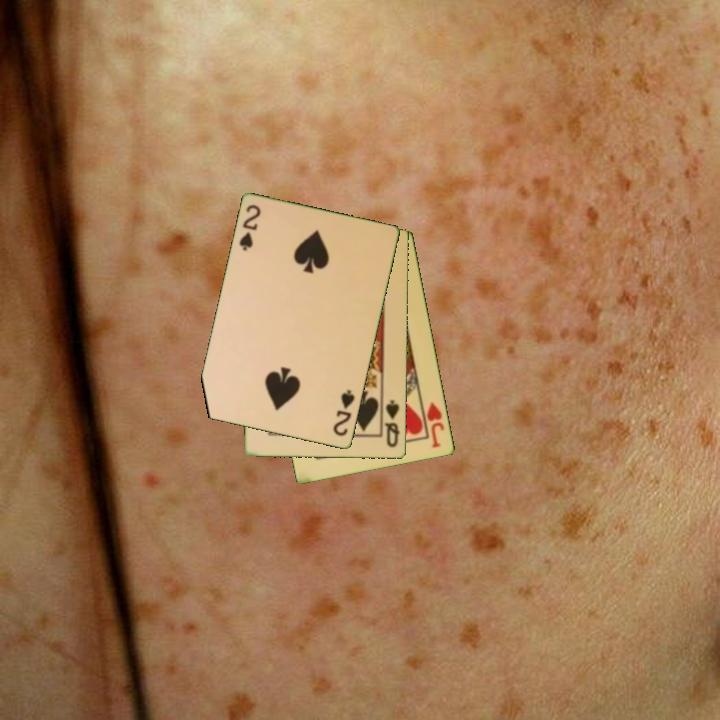2s: (330, 386, 358, 439), (236, 201, 264, 254)
Jh: (418, 397, 447, 451)
Qs: (382, 397, 403, 450)
